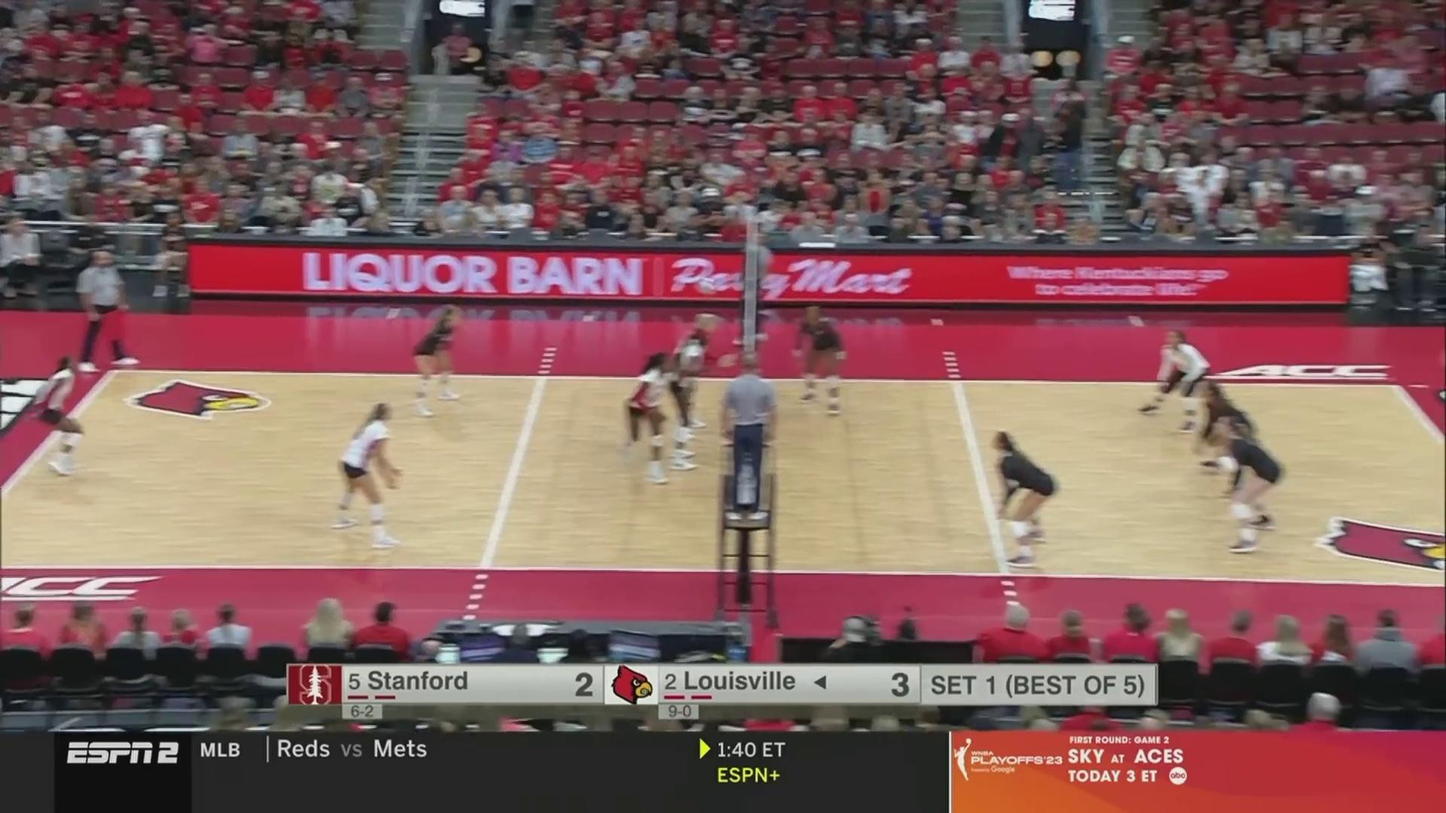player: (1200, 418, 1290, 553), (329, 405, 402, 545), (30, 358, 106, 476), (987, 431, 1052, 566), (612, 353, 675, 488), (1186, 383, 1260, 482), (1142, 331, 1218, 424), (790, 304, 850, 416), (408, 306, 463, 414), (670, 328, 709, 471), (680, 311, 721, 440)
refree: (722, 348, 772, 526), (73, 250, 141, 371), (733, 231, 775, 354)
